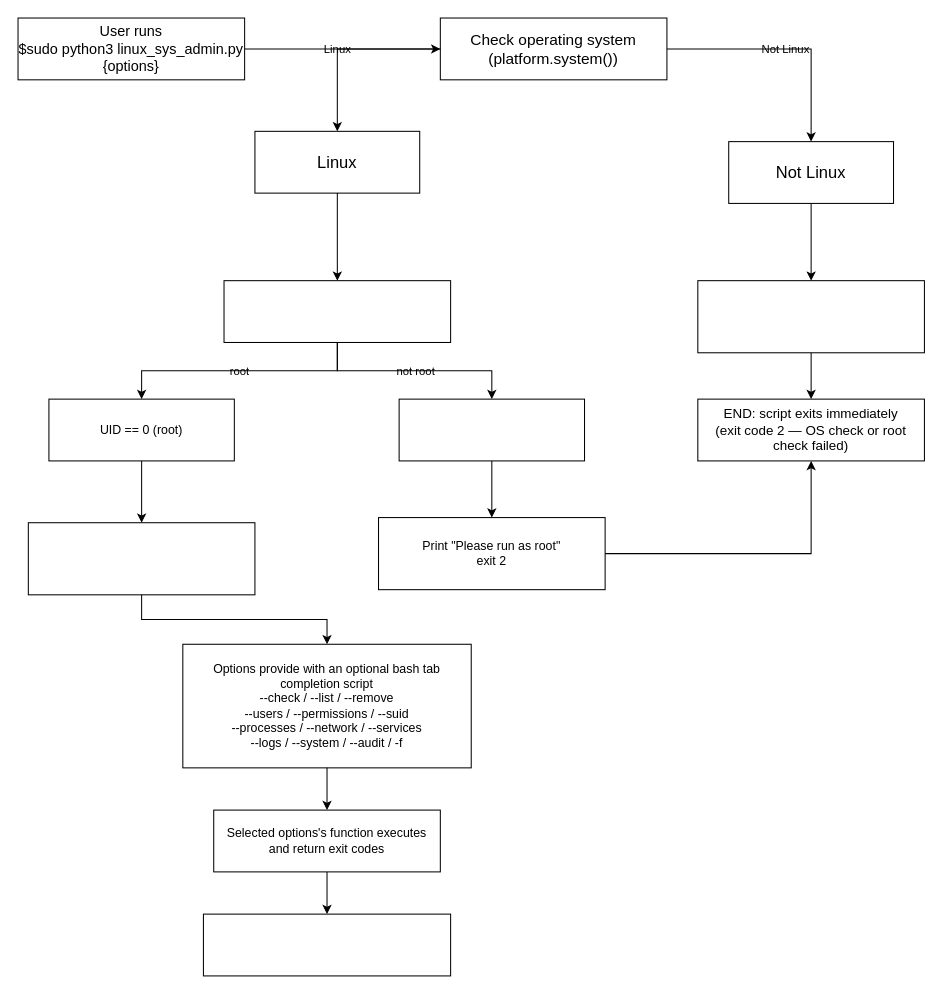
Image size: 942x994. Some labels were removed from this diagram. The centre of each missing label's shape, as x and y in pixels:
Check effective UID (os.geteuid()): point 337,311
Print "Unsupported OS" return error (exit code 2): point 810,316
Return exit code (0 = success, 1 = failure, 2 = error): point 326,944
run_linux(): argparse parses flags: point 141,558
UID != 0: point 491,429
